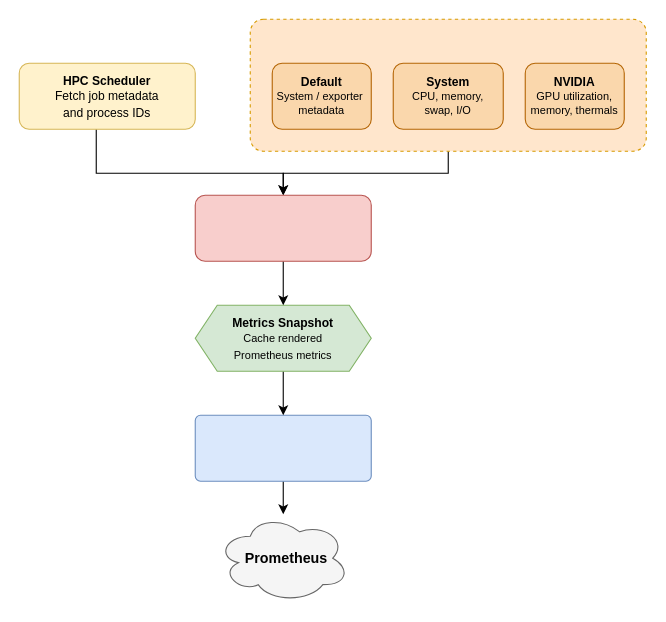
Image size: 666x622. Some labels were removed from this diagram. The box of each missing label's shape, as (x1, y1, x2, y2) in pixels:
Collector Evaluate profilers and aggregate metrics: (194, 194, 371, 261)
Hardware Profilers: (249, 18, 646, 151)
HTTP Server Handle scrape requests and expose metrics: (194, 414, 371, 481)
